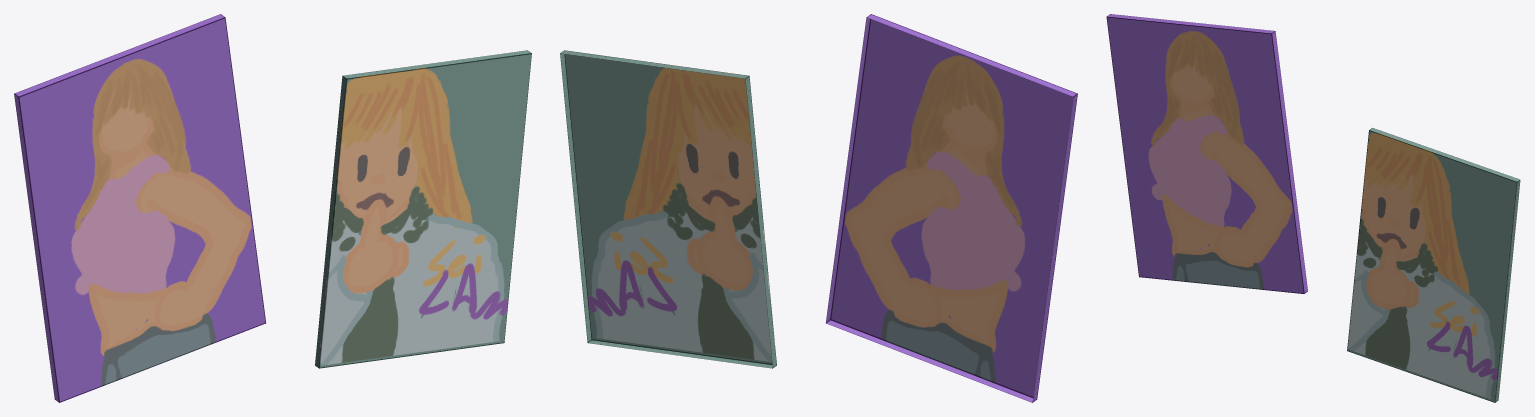
The model's file is Posters.fbx.
The picture shows the model from 3 angles, left to right: view 1: azimuth 30°, elevation 25°; view 2: azimuth 150°, elevation 25°; view 3: azimuth 330°, elevation 25°; orthographic projection. The views are drawn at different scales.
Visible parts, largest first — view 1: PostersRoom; view 2: PostersRoom; view 3: PostersRoom.
Part boxes in pixels (bbox=[...]): PostersRoom: bbox=[14, 14, 531, 402]; PostersRoom: bbox=[560, 14, 1077, 402]; PostersRoom: bbox=[1106, 14, 1520, 402].
Size of the model in its own units: 242 by 178 by 3.85.
Materials: 1 (1 with a texture image).
